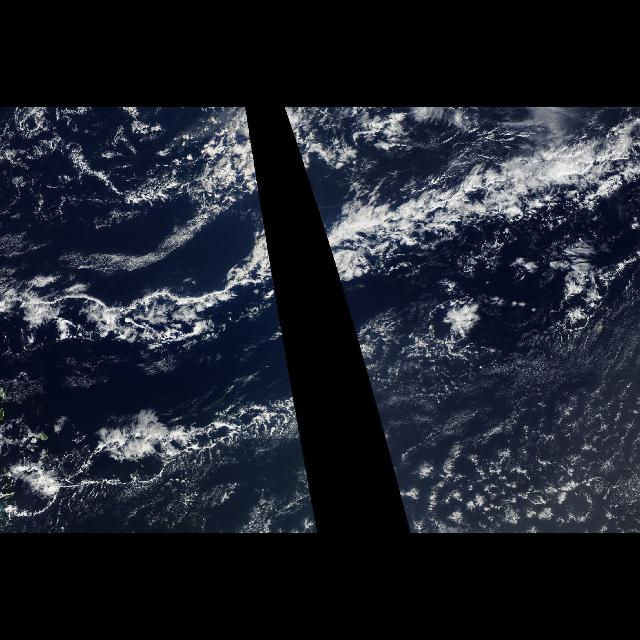Fish: (285, 110, 639, 388), (1, 110, 295, 388), (6, 394, 308, 526)
Sugar: (399, 332, 637, 478)
